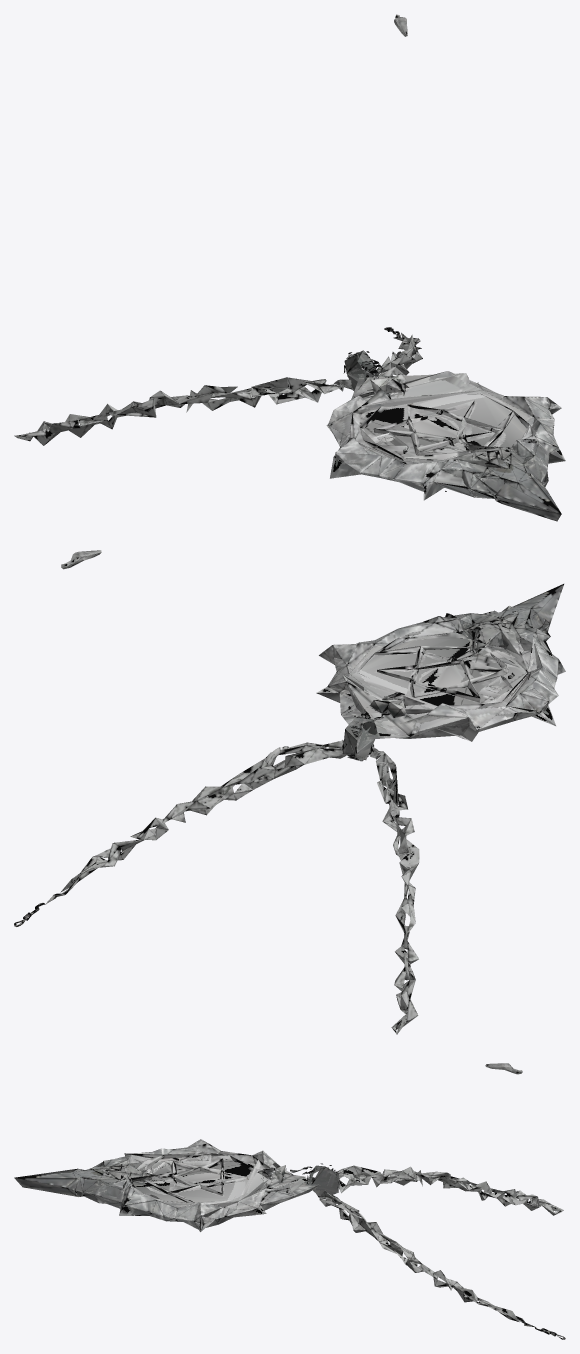
The model's file is medallion_necklace_LOD2.glb.
3 renders of one model, top to bottom at view 1: azimuth 30°, elevation 25°; view 2: azimuth 150°, elevation 25°; view 3: azimuth 270°, elevation 25°, orthographic. The views are drawn at different scales.
Visible parts, largest first — view 1: medallion_necklace_LOD2; view 2: medallion_necklace_LOD2; view 3: medallion_necklace_LOD2.
Boxes of the visible parts, <box> form: medallion_necklace_LOD2: <box>14,14,565,521</box>; medallion_necklace_LOD2: <box>14,550,565,1034</box>; medallion_necklace_LOD2: <box>14,1063,565,1339</box>.
Size of the model in its own units: 0.5657 by 0.511 by 0.9111.
1 material, 1 textured.
